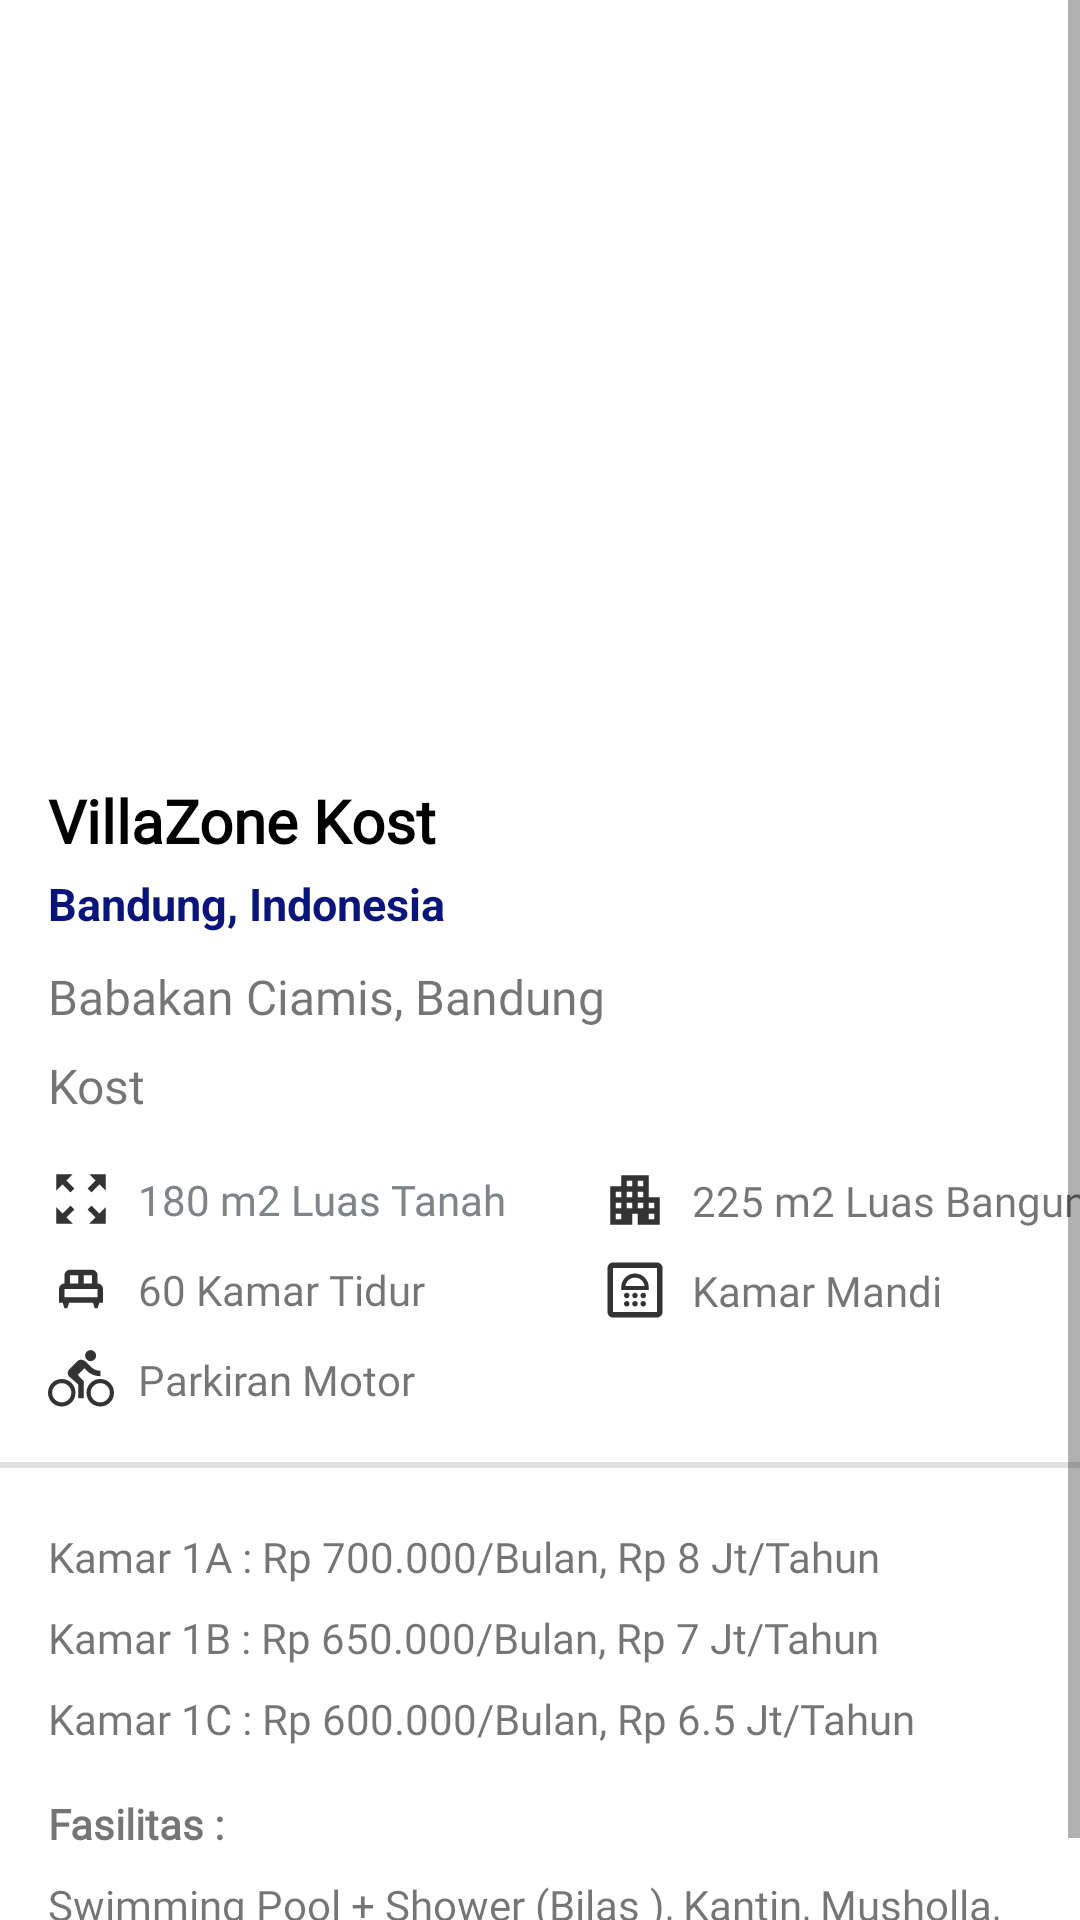

Named icons in this screenshot (1080w x 1920h) and their bounding boxes, (x1, y1, x2, y2):
apartment: (610, 1175, 660, 1225)
bathroom: (607, 1262, 663, 1318)
directions bike: (48, 1350, 114, 1407)
single bed: (59, 1269, 103, 1309)
zoom out map: (56, 1174, 106, 1224)
